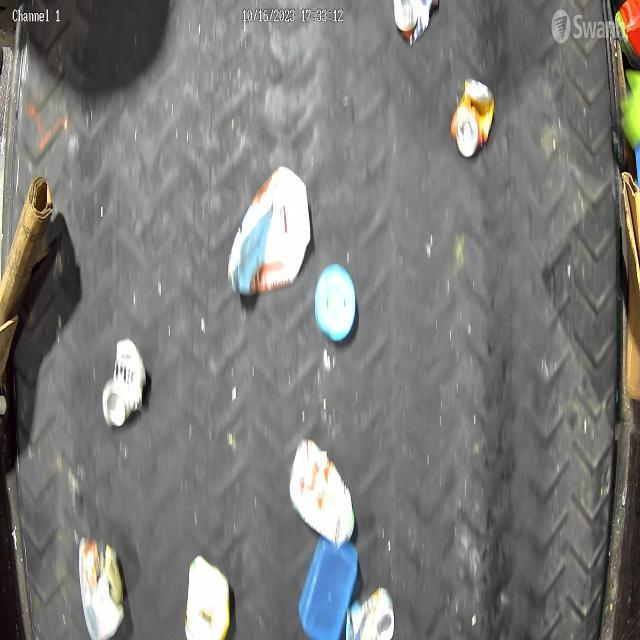can: (102, 328, 148, 443), (446, 78, 498, 170), (344, 585, 398, 640)
milk_jug: (228, 170, 310, 298), (292, 436, 356, 550)
